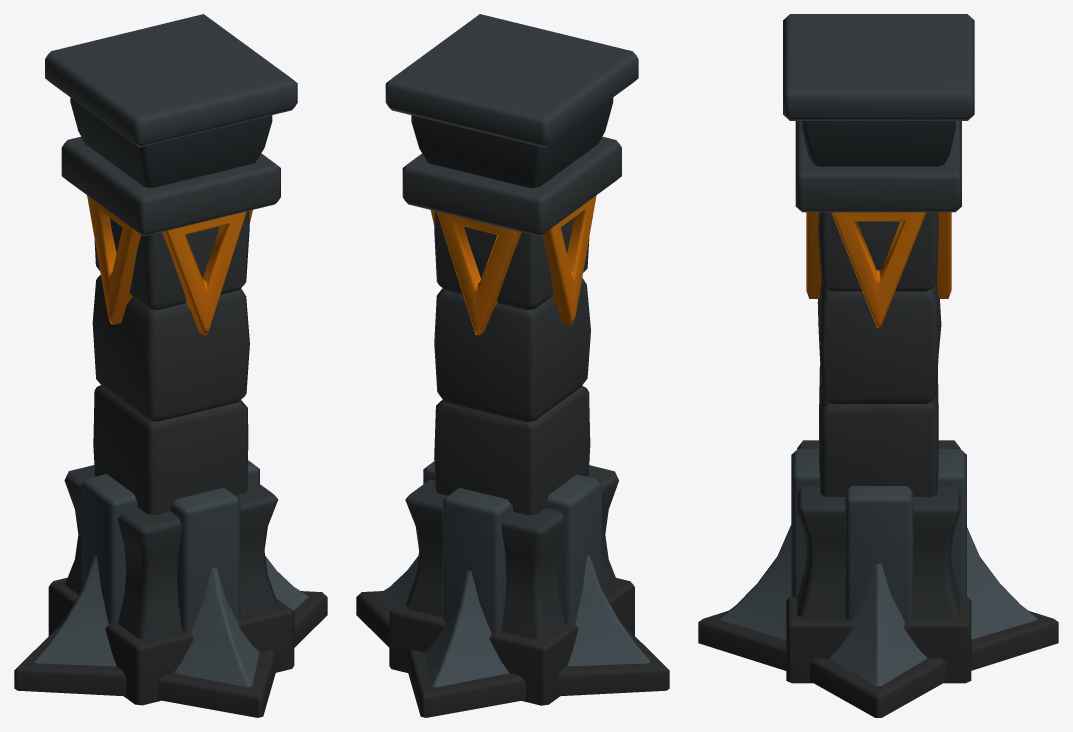
File: hl_column.glb
The picture shows the model from 3 angles, left to right: view 1: azimuth 30°, elevation 25°; view 2: azimuth 150°, elevation 25°; view 3: azimuth 270°, elevation 25°; orthographic projection.
Visible parts, largest first — view 1: hl_column; view 2: hl_column; view 3: hl_column.
Boxes of the visible parts, left/top/right/bottom form: hl_column: left=14, top=14, right=327, bottom=717; hl_column: left=356, top=14, right=669, bottom=717; hl_column: left=698, top=14, right=1058, bottom=717.
Bounding box in the file's own units: 3.17 × 5.74 × 3.17.
